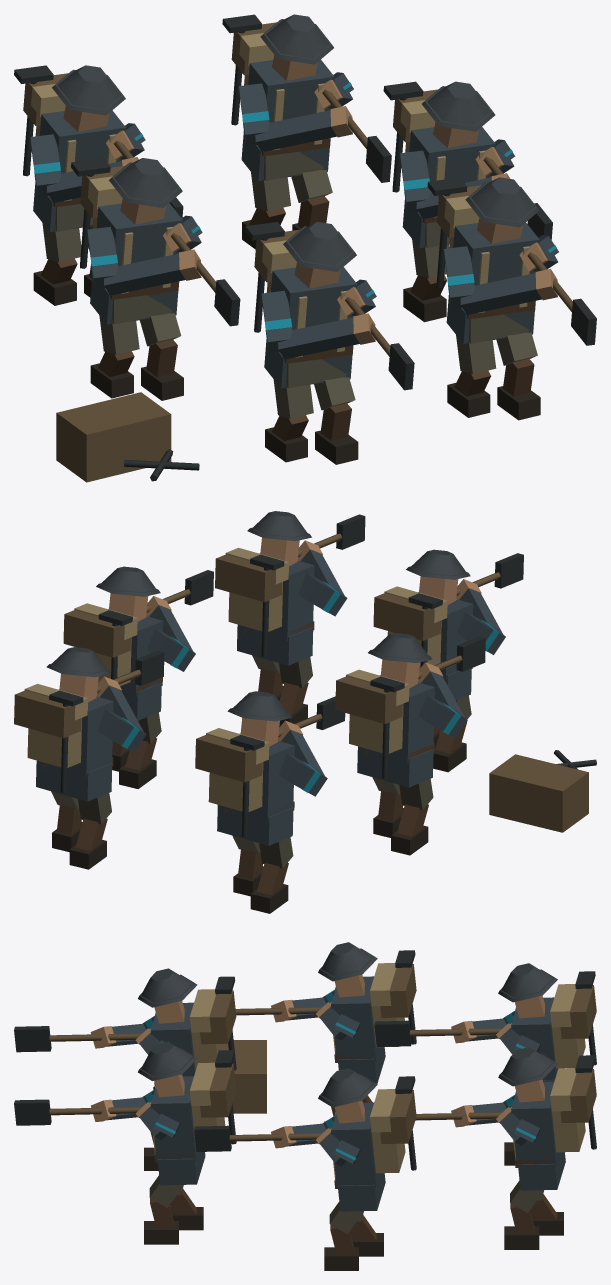
File: engineers.glb
3 views of the same model, one above another, from view 1: azimuth 30°, elevation 25°; view 2: azimuth 150°, elevation 25°; view 3: azimuth 270°, elevation 25° (orthographic). The views are drawn at different scales.
Parts seen in each view (by area): view 1: body; view 2: body; view 3: body.
Part boxes in pixels (x1,y1,x2,y2): body: [14, 14, 596, 482]; body: [14, 511, 596, 913]; body: [14, 942, 596, 1270].
Bounding box in the file's own units: 3.87 × 1.69 × 4.69.
